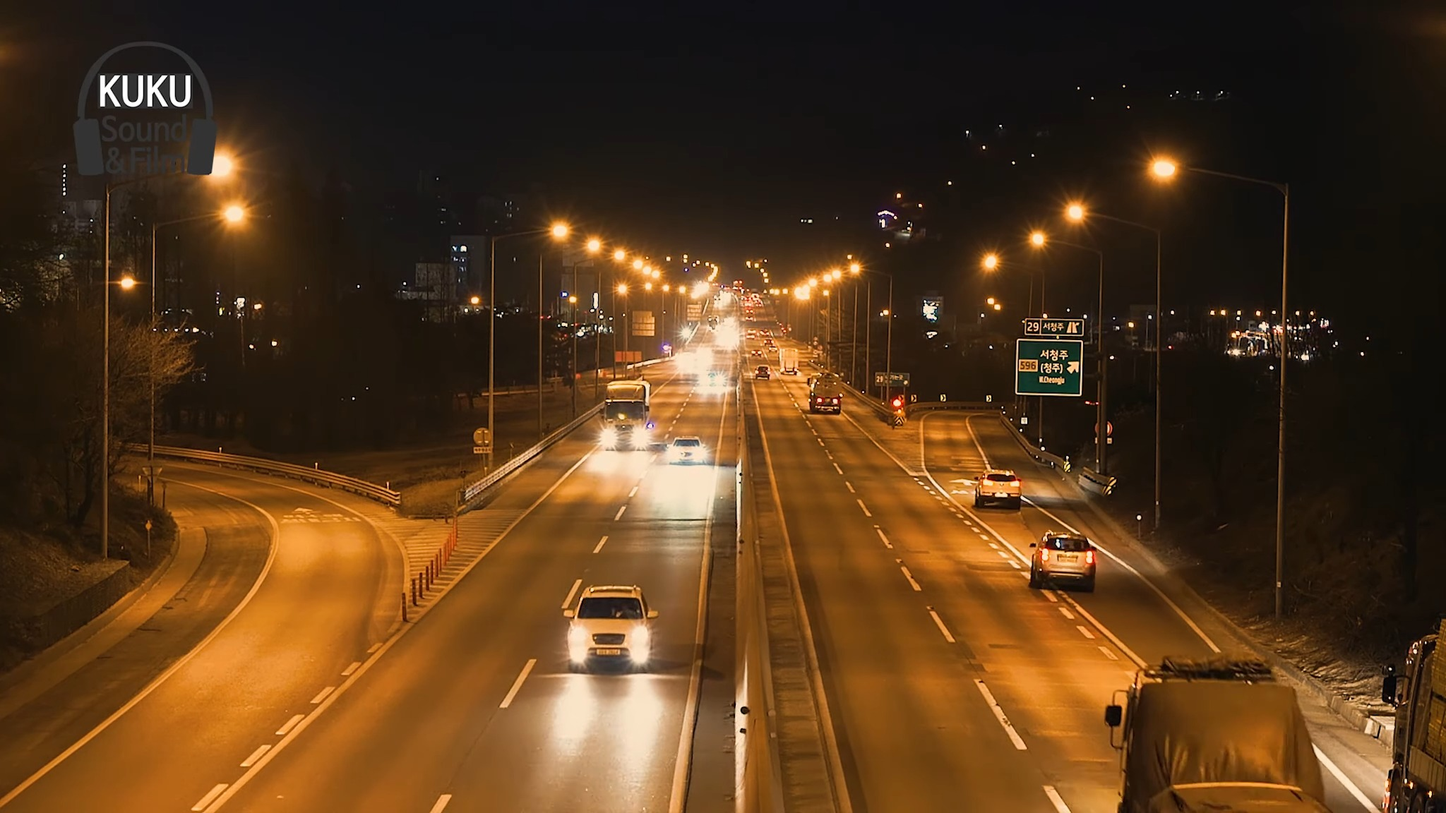car: (569, 584, 657, 676), (1026, 531, 1100, 600), (975, 471, 1024, 514)
